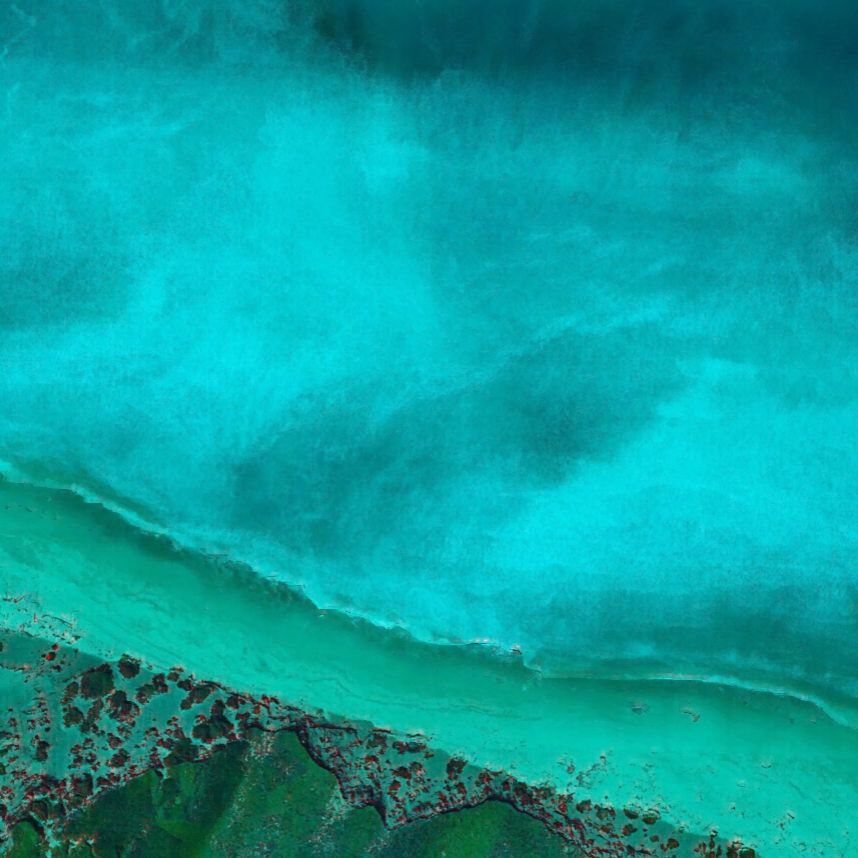rip_current: (214, 272, 768, 597)
